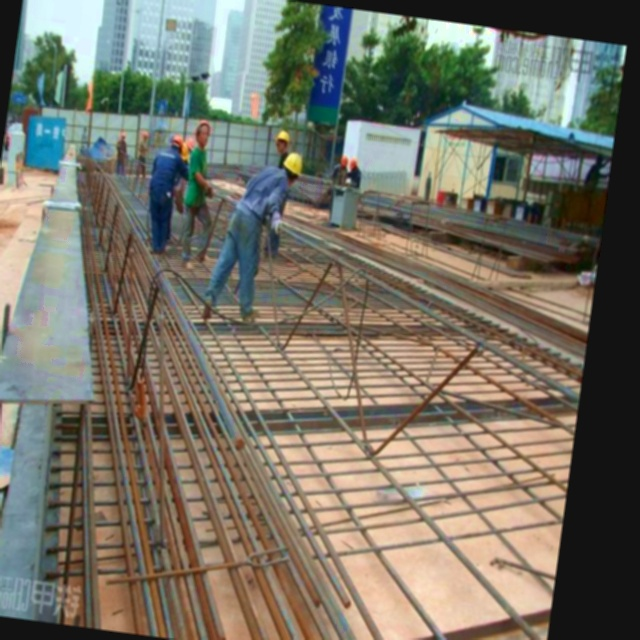Con_Casco: (280, 149, 306, 187)
Sin_Chaleco: (184, 147, 215, 208)
